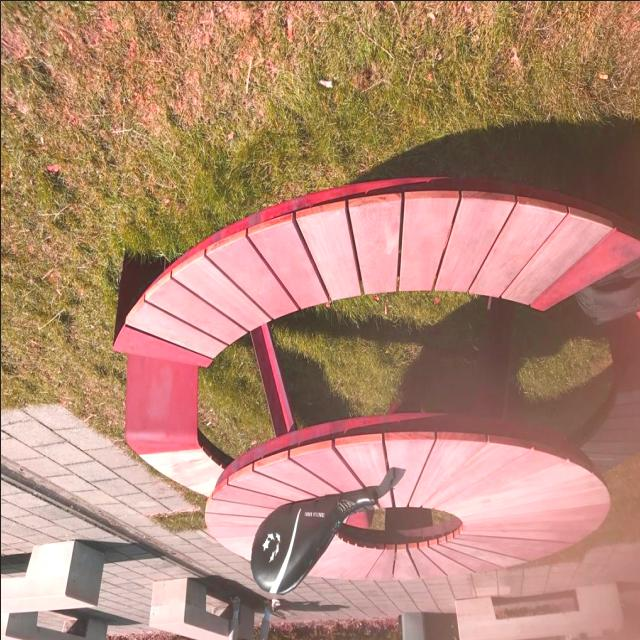paddle: (248, 482, 378, 596)
